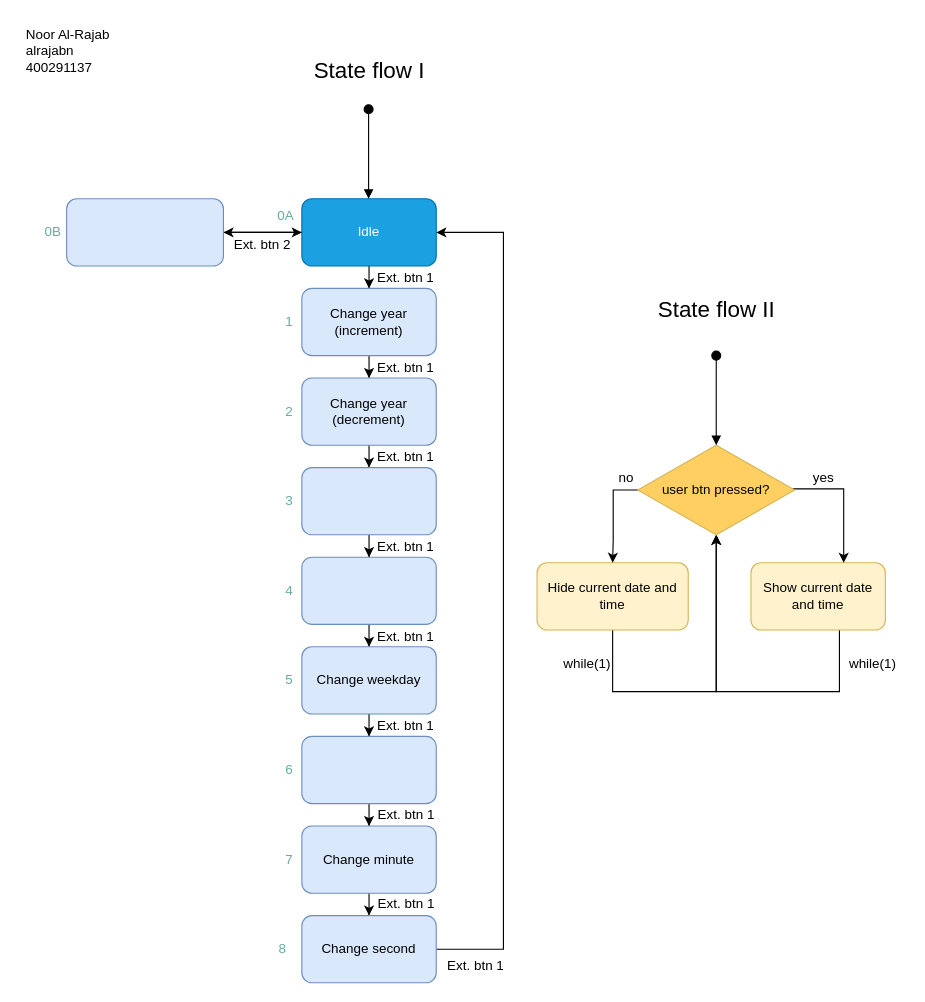
This 925x1002 diagram has some shape labels left out. The shapes that lost their labels are listed below. From the top down, each one's box as (x1, y1, x2, y2) in pixels, then its label:
(66, 198, 223, 266): Show last 2 times user_btn was pressed
(301, 466, 436, 535): Change month
(301, 556, 436, 624): Change date
(301, 735, 436, 804): Change hour
